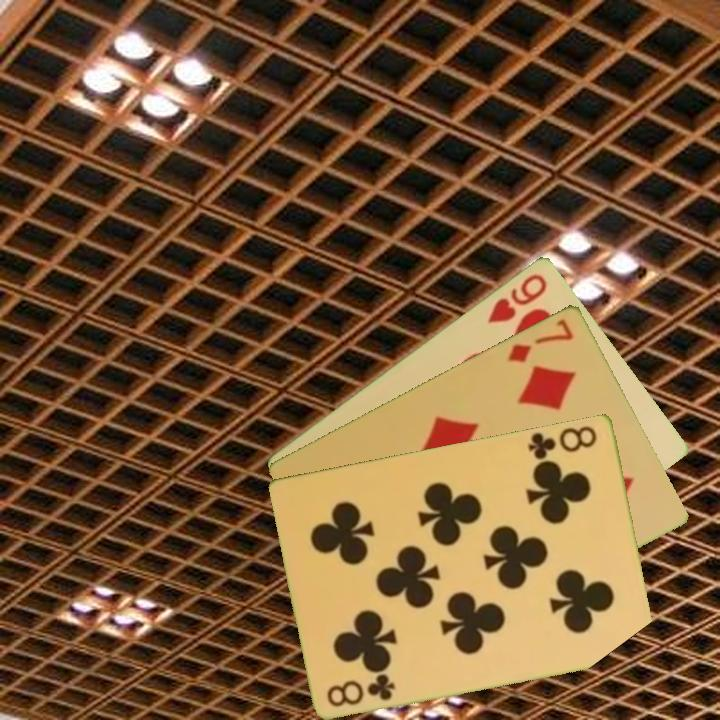7d: (504, 315, 577, 365)
8c: (525, 422, 600, 466), (323, 670, 399, 709)
9h: (484, 269, 550, 326)
